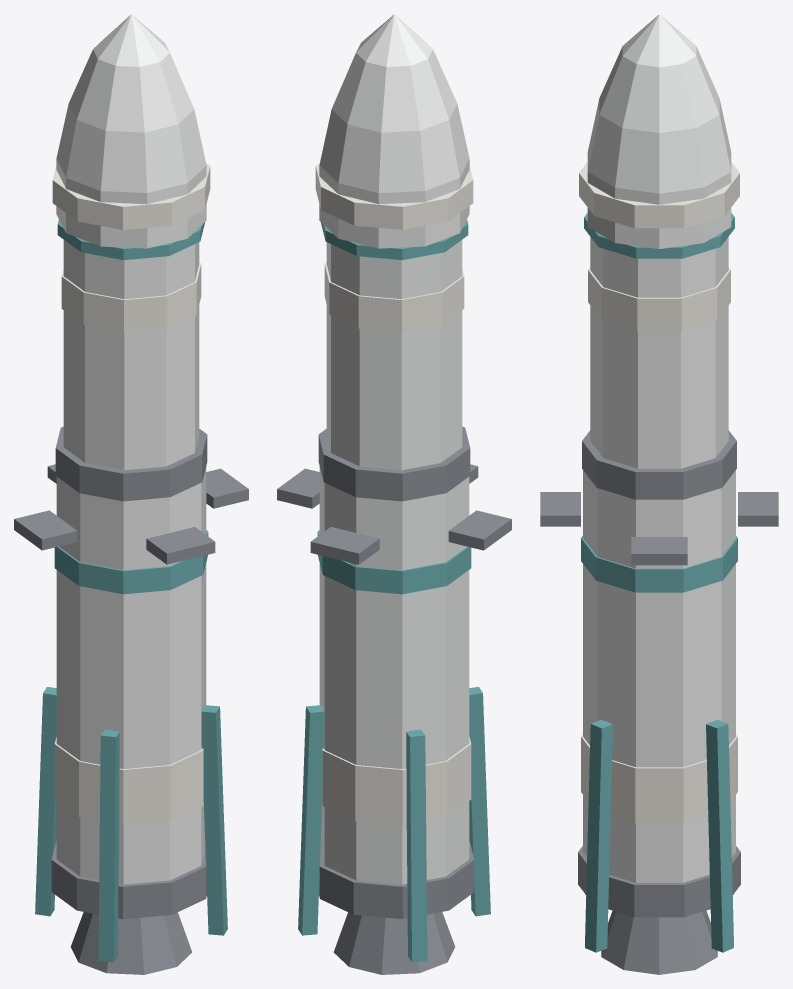
The model's file is rocket.glb.
3 views of the same model, side by side, from view 1: azimuth 30°, elevation 25°; view 2: azimuth 150°, elevation 25°; view 3: azimuth 270°, elevation 25° (orthographic).
Visible parts, largest first — view 1: rocket; view 2: rocket; view 3: rocket.
Part boxes in pixels (x1,y1,x2,y2): rocket: (14,14,248,974); rocket: (277,14,511,974); rocket: (540,14,778,974).
Bounding box in the file's own units: 0.2311 × 0.9995 × 0.2311.
